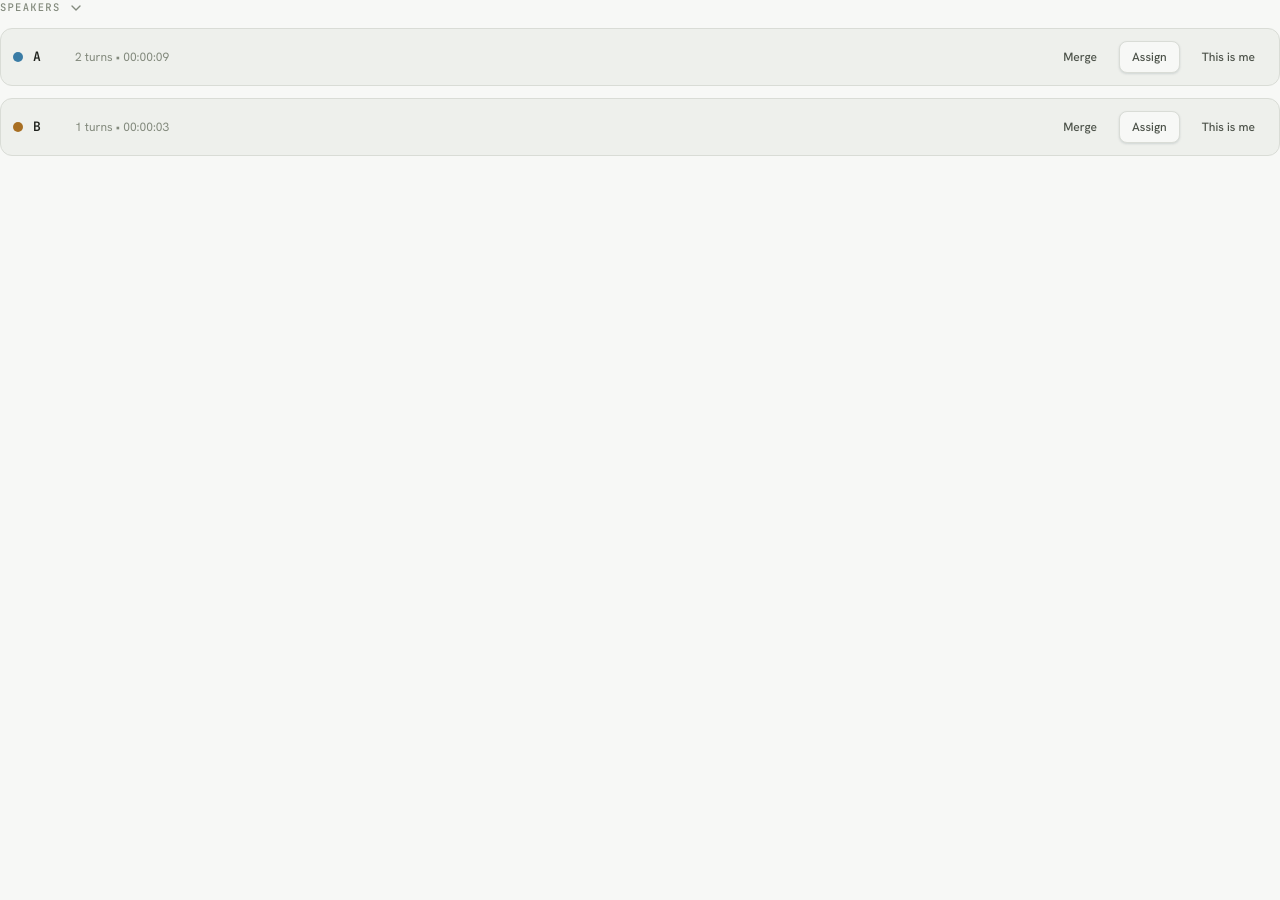
SpeakersPanel (AC2/AC3) › pre-fills the contact picker with meeting attendees on top (AC2)
Note: Open the picker for label A
Click the button with aria-label "assign contact": (1149, 57) [1119, 41, 1180, 73]
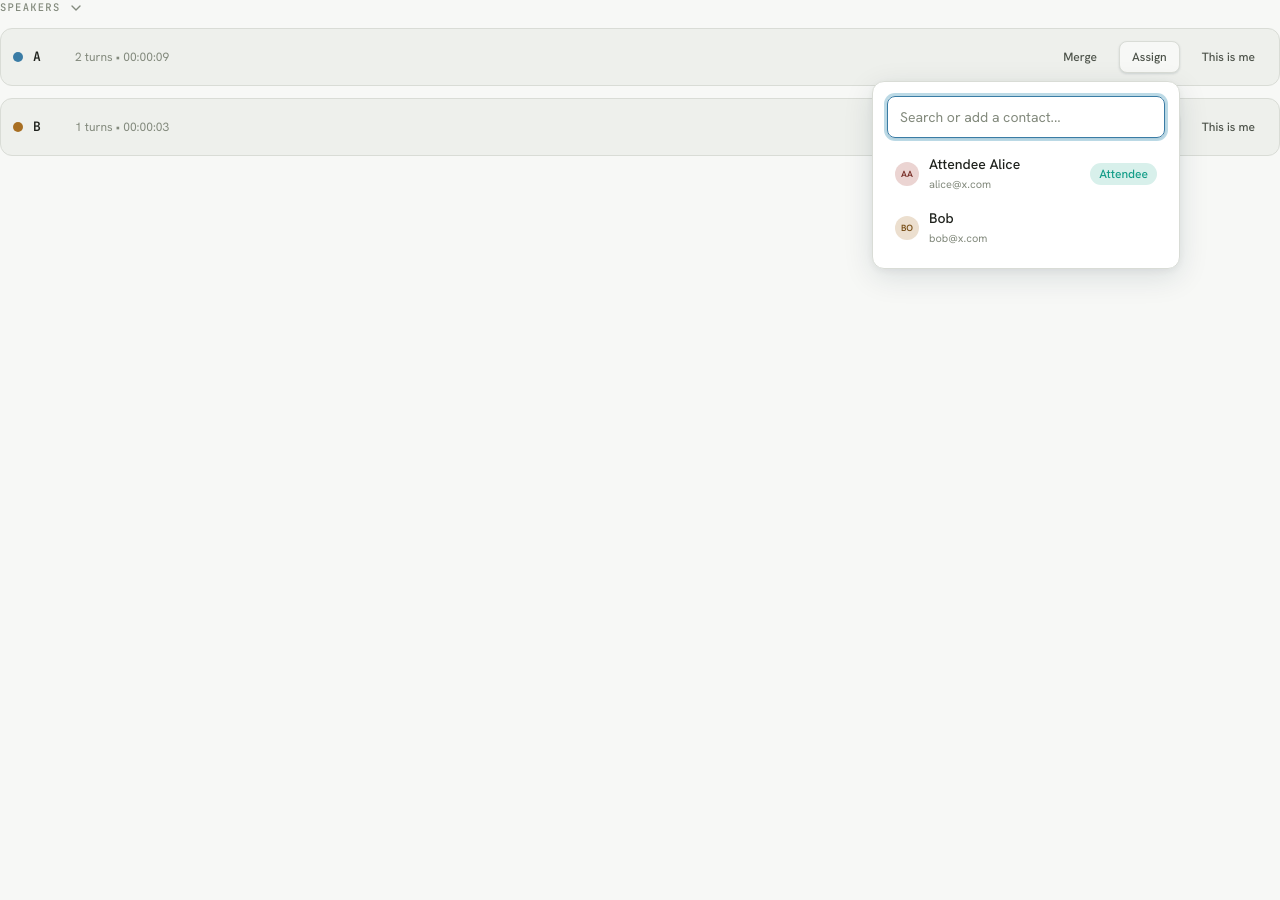
Result: the text "Attendee Alice" is shown at [929, 155, 1020, 173]
